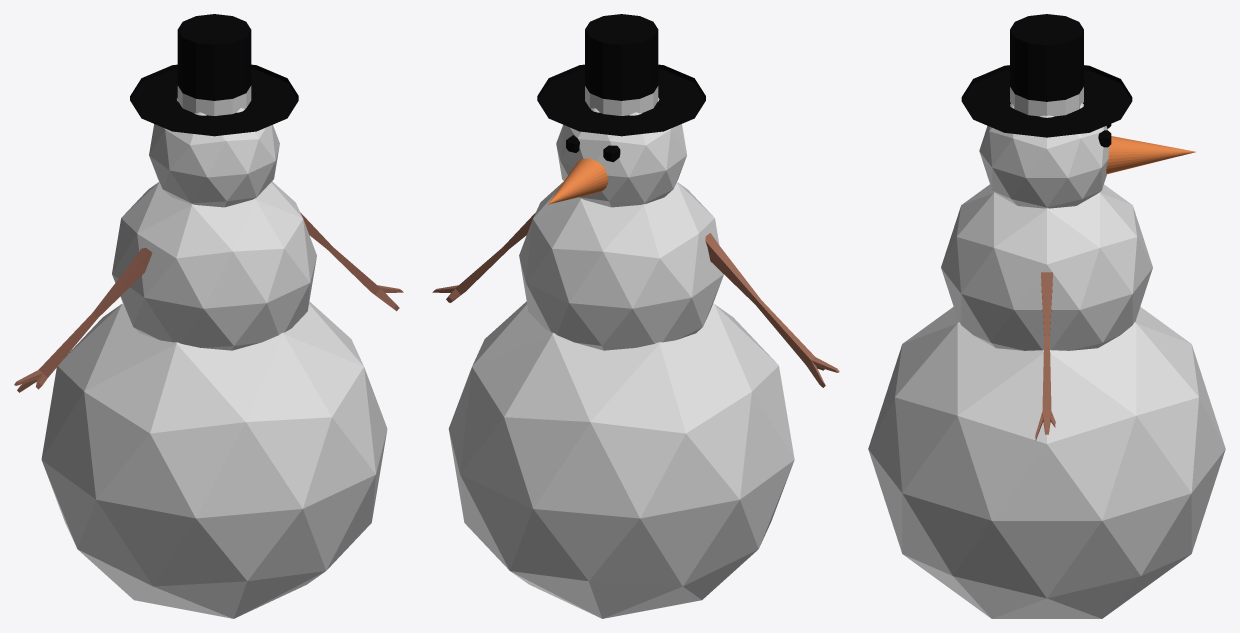
The model's file is snowpuppet.fbx.
3 views of the same model, side by side, from view 1: azimuth 30°, elevation 25°; view 2: azimuth 150°, elevation 25°; view 3: azimuth 270°, elevation 25° (orthographic).
Visible parts, largest first — view 1: Cylinder.013; view 2: Cylinder.013; view 3: Cylinder.013.
Boxes of the visible parts, x1,y1,x2,y2 form: Cylinder.013: (14,14,403,618); Cylinder.013: (432,14,839,618); Cylinder.013: (868,14,1225,618).
Size of the model in its own units: 680 by 941 by 525.
